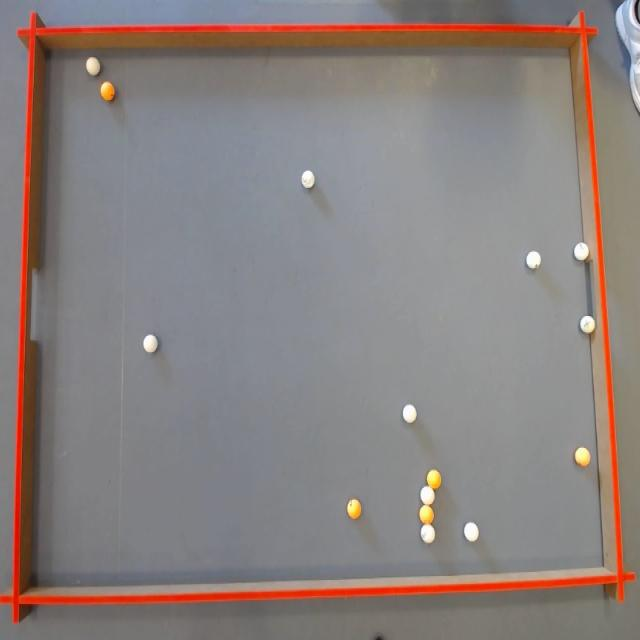orange_ball: (575, 447, 590, 466), (419, 505, 434, 524), (347, 499, 361, 519), (427, 469, 441, 489), (100, 81, 114, 101)
white_ball: (143, 334, 158, 354), (574, 242, 589, 261), (464, 522, 478, 542), (580, 316, 595, 334), (526, 251, 541, 269), (420, 486, 435, 504), (301, 170, 315, 188), (86, 57, 100, 75), (421, 525, 435, 543), (403, 405, 416, 423)
